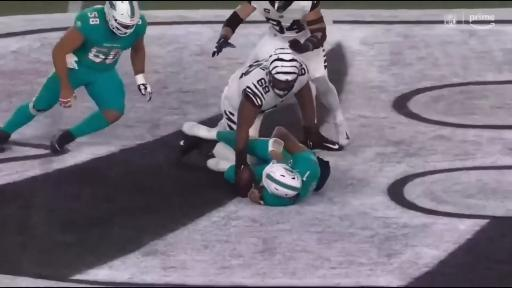Helmet: (268, 48, 300, 96), (263, 161, 302, 197), (105, 2, 140, 36)
Jersey: (73, 6, 147, 70), (234, 59, 309, 112), (262, 150, 320, 206), (248, 2, 319, 37)
Player: (0, 2, 151, 153), (213, 2, 349, 145), (218, 48, 342, 166), (239, 127, 330, 206)
